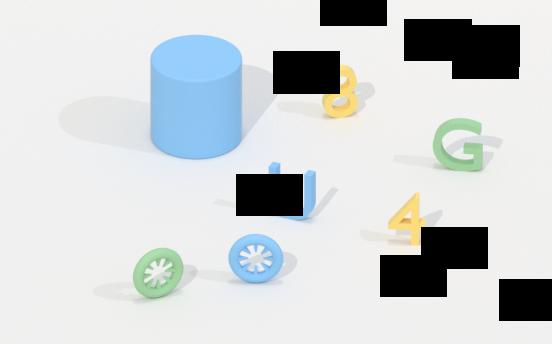4: (384, 190, 430, 246)
8: (318, 63, 363, 121)
G-hoa: (431, 115, 489, 172)
tron: (226, 232, 287, 285), (133, 246, 189, 299)
tru: (149, 30, 245, 162)
u: (265, 161, 323, 222)
